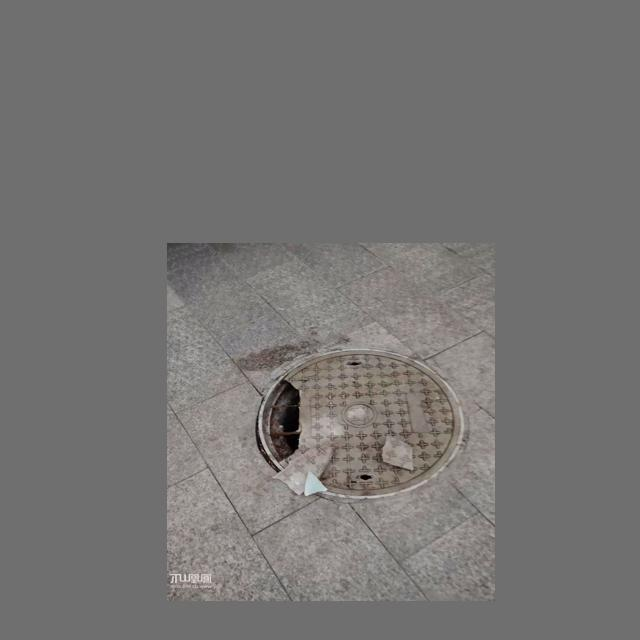broke: (238, 340, 469, 512)
